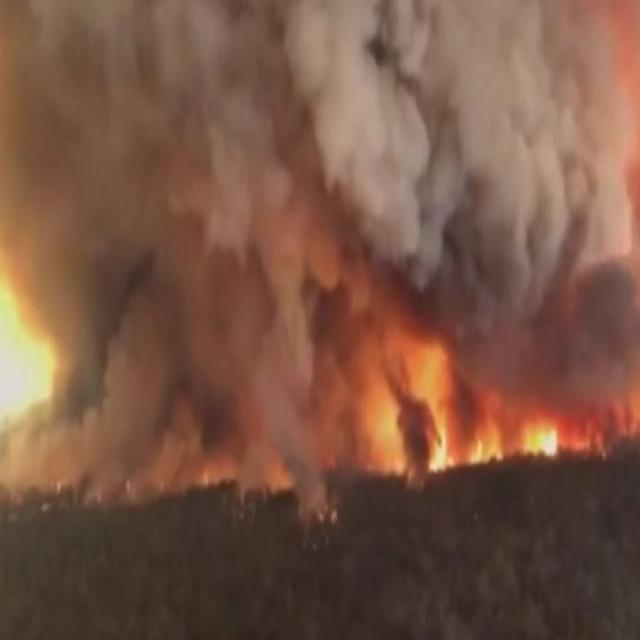Fire: (427, 428, 459, 472), (525, 426, 558, 459), (468, 436, 506, 464)
Smoke: (2, 8, 636, 520)
